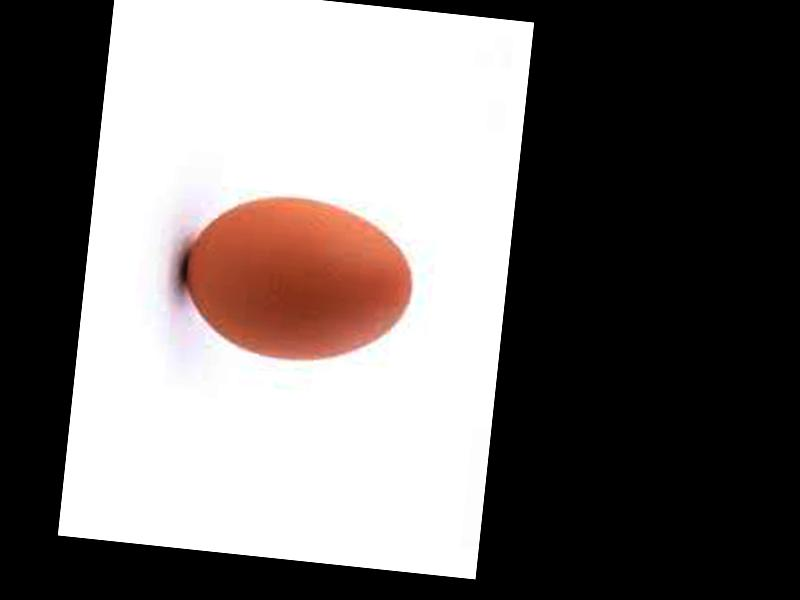Eggs: (178, 187, 419, 373)
